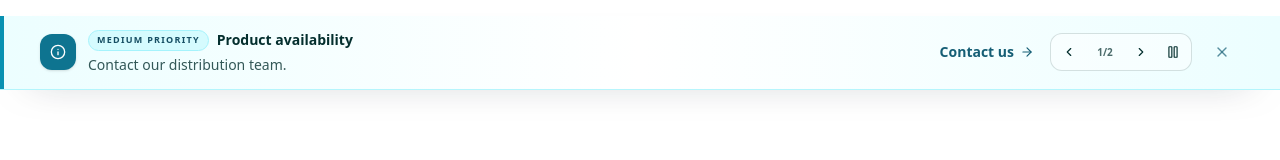
Test: ImportantNotice › lets visitors pause and resume automatic rotation
The width and height of the screenshot is (1280, 160).
Click the button named "Pause automatic notifications".
click(1173, 52)  # box [1159, 38, 1187, 66]
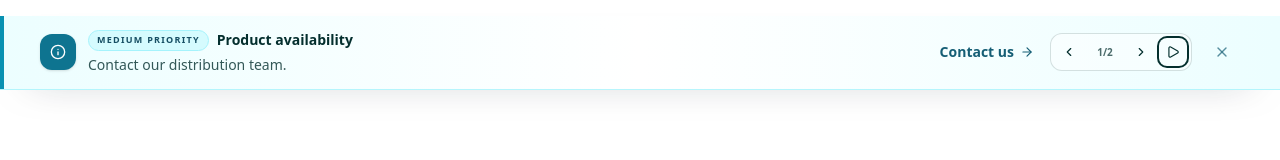
expect the button named "Resume automatic notifications" is shown: met, box [1159, 38, 1187, 66]
